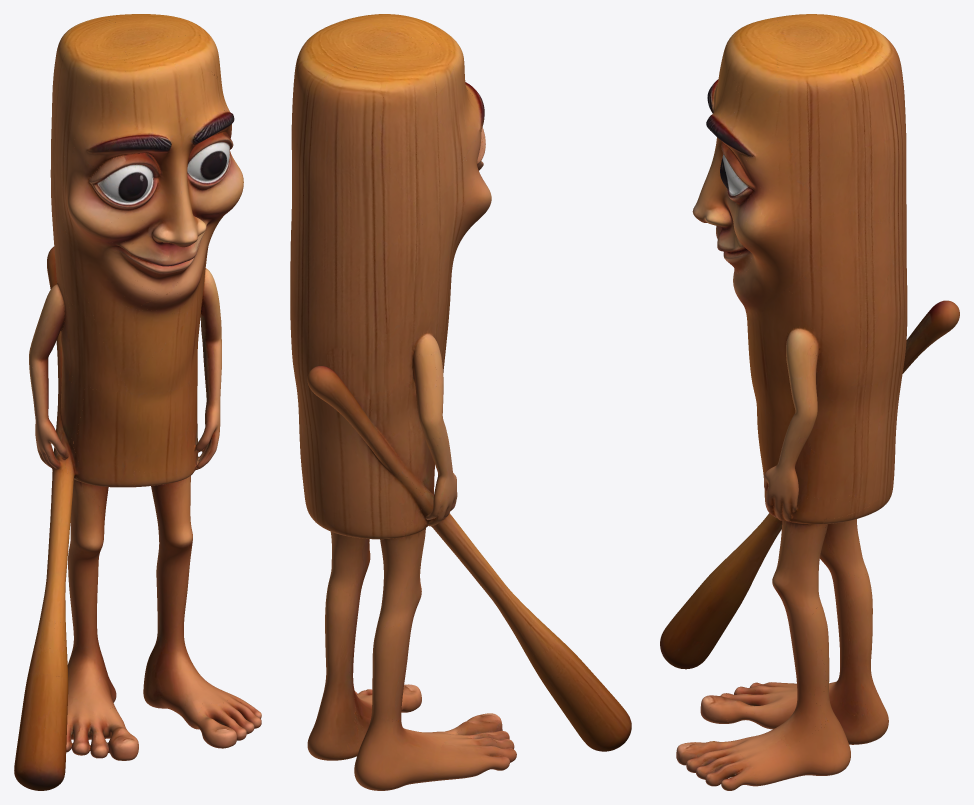
File: triple_t.glb
3 views of the same model, side by side, from view 1: azimuth 30°, elevation 25°; view 2: azimuth 150°, elevation 25°; view 3: azimuth 270°, elevation 25° (orthographic). The views are drawn at different scales.
Visible parts, largest first — view 1: Object_5, Object_6; view 2: Object_5, Object_6; view 3: Object_5, Object_6.
Part boxes in pixels (bbox=[...]): Object_5: bbox=[14, 14, 261, 790]; Object_6: bbox=[27, 20, 250, 754]; Object_5: bbox=[290, 17, 631, 790]; Object_6: bbox=[304, 14, 571, 778]; Object_5: bbox=[660, 14, 959, 790]; Object_6: bbox=[707, 18, 869, 790].
Bounding box in the file's own units: 0.7691 × 1.9 × 0.7228.
Materials: 1 (1 with a texture image).
